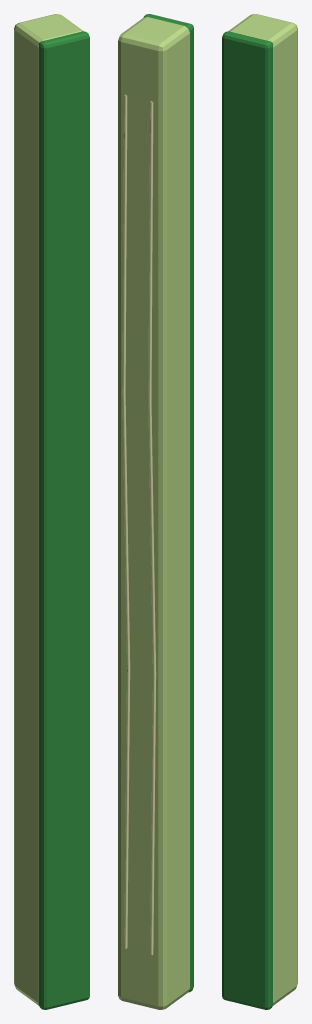
The model's file is cucumber.glb.
The picture shows the model from 3 angles, left to right: view 1: azimuth 30°, elevation 25°; view 2: azimuth 150°, elevation 25°; view 3: azimuth 330°, elevation 25°; orthographic projection.
Visible parts, largest first — view 1: cucumber_skin, cucumber_baton; view 2: cucumber_baton, cucumber_skin, cucumber_seed_line_1, cucumber_seed_line_0; view 3: cucumber_skin, cucumber_baton.
Boxes of the visible parts, left/top/right/bottom form: cucumber_skin: left=38, top=31, right=89, bottom=1009; cucumber_baton: left=14, top=14, right=83, bottom=1005; cucumber_baton: left=118, top=17, right=189, bottom=1009; cucumber_skin: left=143, top=14, right=193, bottom=992; cucumber_seed_line_1: left=122, top=94, right=130, bottom=948; cucumber_seed_line_0: left=148, top=101, right=156, bottom=954; cucumber_skin: left=222, top=31, right=273, bottom=1009; cucumber_baton: left=228, top=14, right=297, bottom=1005.
Bounding box in the file's own units: 0.052 × 0.998 × 0.0625.
